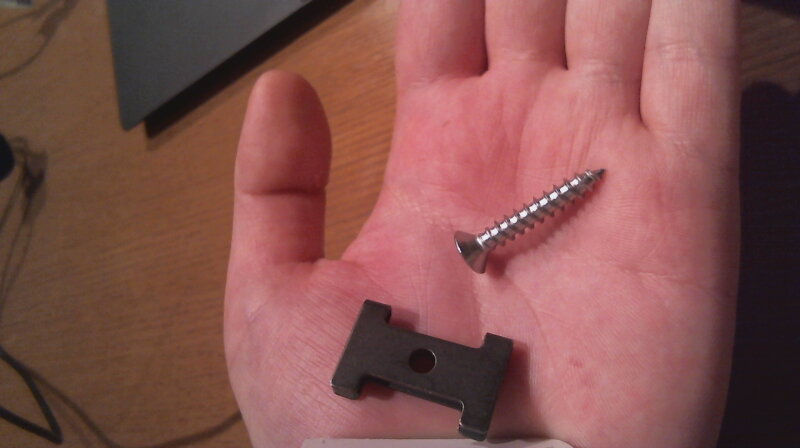O002: (328, 297, 515, 438)
S001: (450, 162, 611, 275)
